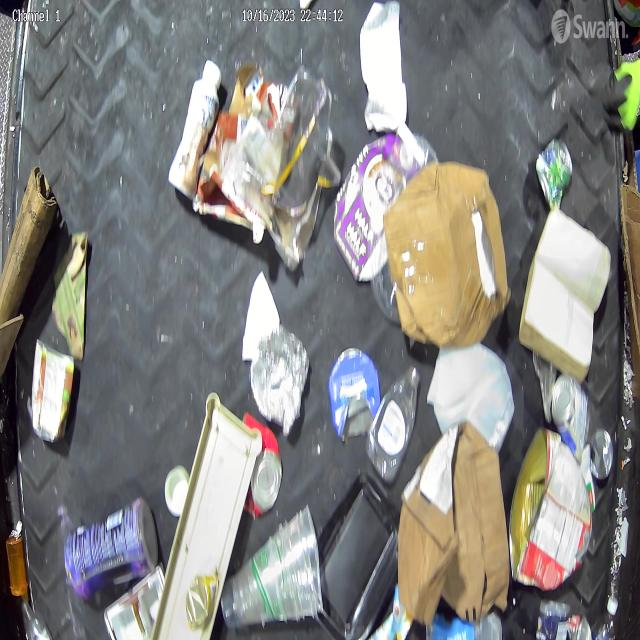can: (509, 425, 593, 591), (329, 348, 381, 438), (31, 338, 75, 443), (245, 411, 282, 517), (552, 372, 590, 466), (536, 137, 573, 211)
milk_jug: (427, 343, 516, 454)
non_white_jug: (333, 122, 427, 282)
plastic_bottle: (366, 364, 420, 482), (592, 594, 619, 640)
